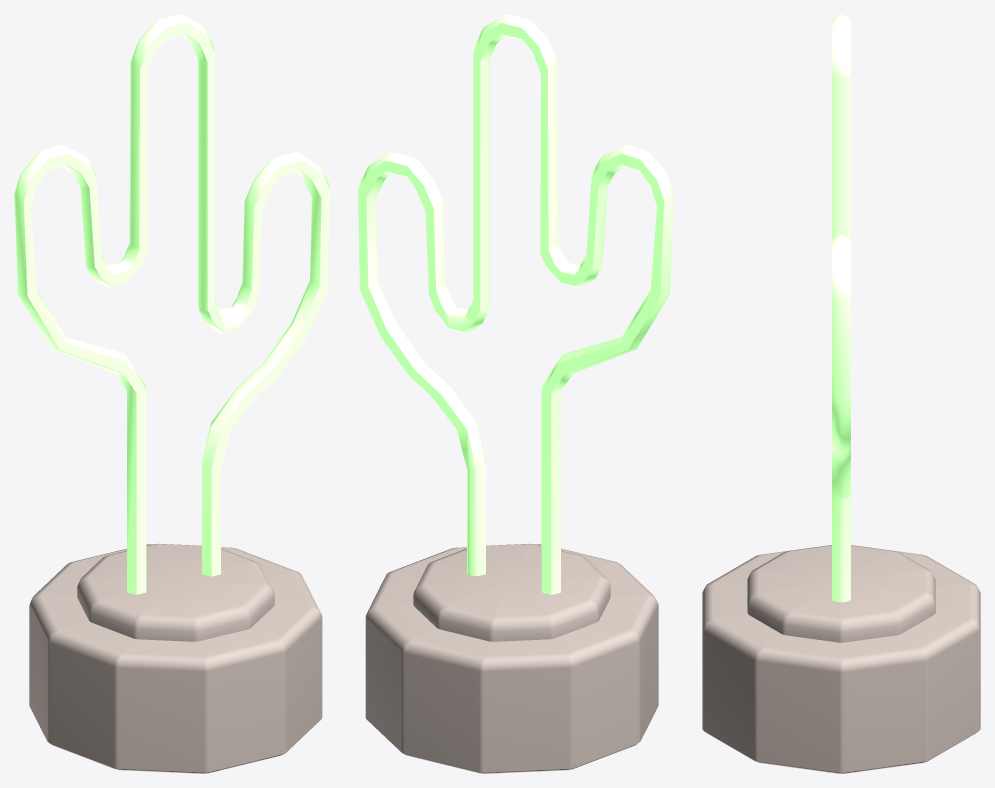
Rendered from Neon_cactus.glb.
3 views of the same model, side by side, from view 1: azimuth 30°, elevation 25°; view 2: azimuth 150°, elevation 25°; view 3: azimuth 270°, elevation 25° (orthographic).
Parts seen in each view (by area): view 1: Neon_cactus; view 2: Neon_cactus; view 3: Neon_cactus.
Boxes of the visible parts, bbox=[...] form: Neon_cactus: bbox=[14, 14, 329, 773]; Neon_cactus: bbox=[358, 14, 673, 773]; Neon_cactus: bbox=[702, 14, 980, 773].
Size of the model in its own units: 0.1631 by 0.3469 by 0.1264.
2 materials, 1 textured.
